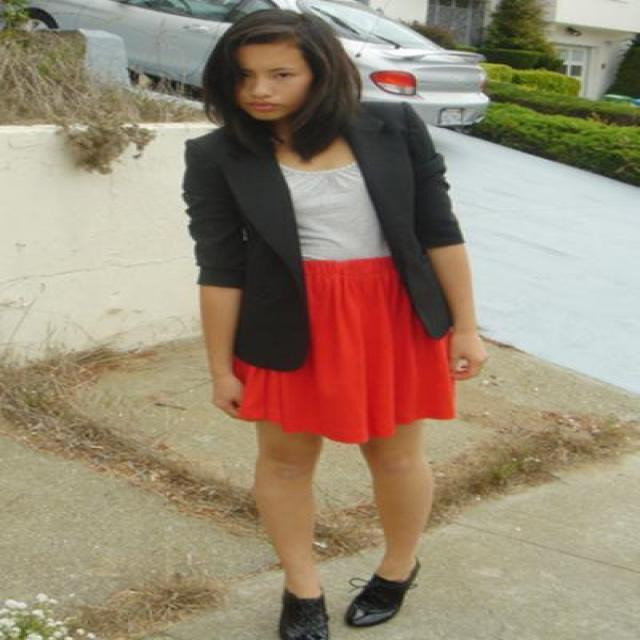jacket: (182, 90, 462, 371)
shirt: (288, 167, 387, 260)
shoe: (278, 576, 402, 639)
skirt: (230, 256, 454, 443)
